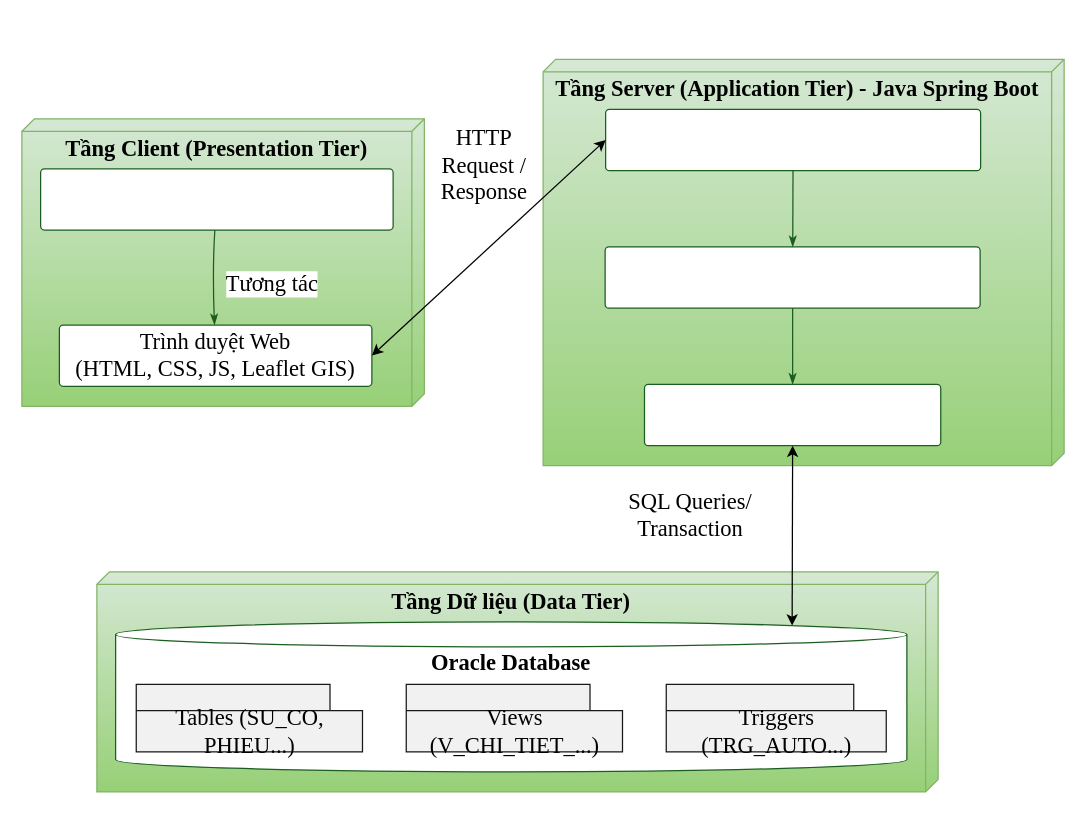
Image size: 1086x814. Some labels were removed from this diagram. The centre of each missing label's shape, as x and y in pixels:
"Business Services (Xử lý logic, Phân công, Nghiệm thu)" goes at [792,277].
"Data Access Layer (JPA/JDBC) (Giao tiếp CSDL)" goes at [792,414].
"Người dùng (Người dân, Điều phối viên, Nhân viên)" goes at [216,199].
"Web/REST Controllers (Tiếp nhận Request & Phản hồi HTTP)" goes at [792,139].
